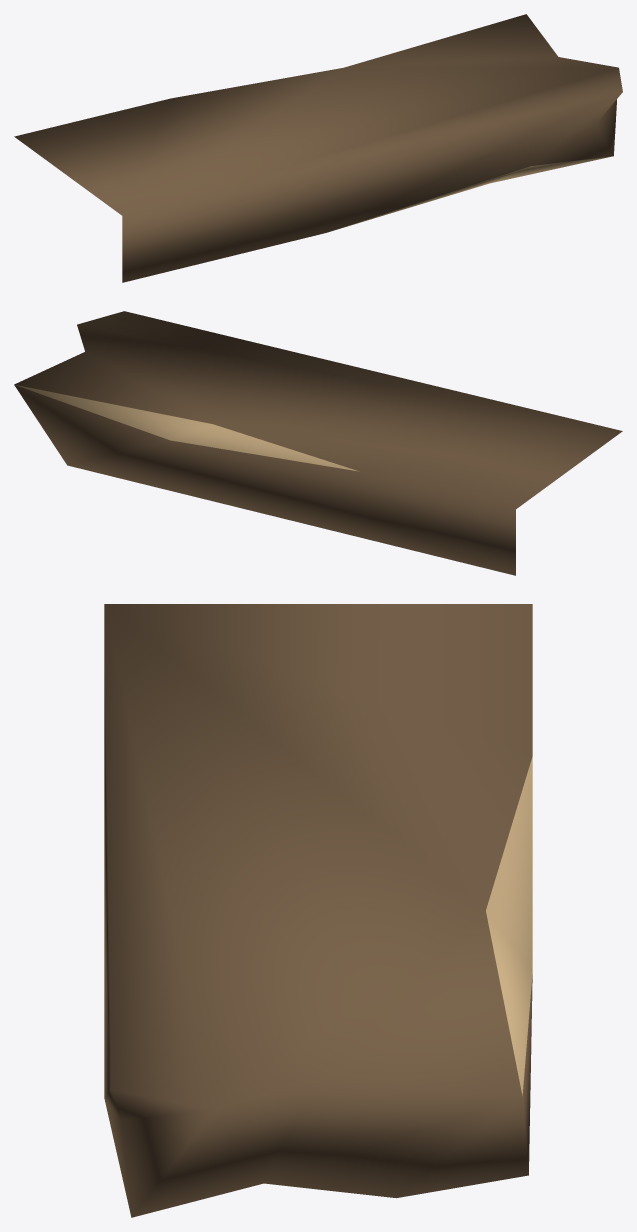
Rendered from rpgpp_av_wall_connector_bottom_01c_3m.gltf.
3 views of the same model, one above another, from view 1: azimuth 30°, elevation 25°; view 2: azimuth 150°, elevation 25°; view 3: azimuth 270°, elevation 25° (orthographic). The views are drawn at different scales.
Parts seen in each view (by area): view 1: rpgpp_av_wall_connector_bottom_01c_3m; view 2: rpgpp_av_wall_connector_bottom_01c_3m; view 3: rpgpp_av_wall_connector_bottom_01c_3m.
Part boxes in pixels (x1=…): rpgpp_av_wall_connector_bottom_01c_3m: x1=14, y1=14, x2=622, y2=282; rpgpp_av_wall_connector_bottom_01c_3m: x1=14, y1=311, x2=622, y2=575; rpgpp_av_wall_connector_bottom_01c_3m: x1=104, y1=604, x2=532, y2=1217.
Size of the model in its own units: 0.0168 by 0.00205 by 0.006.
1 material, 1 textured.
